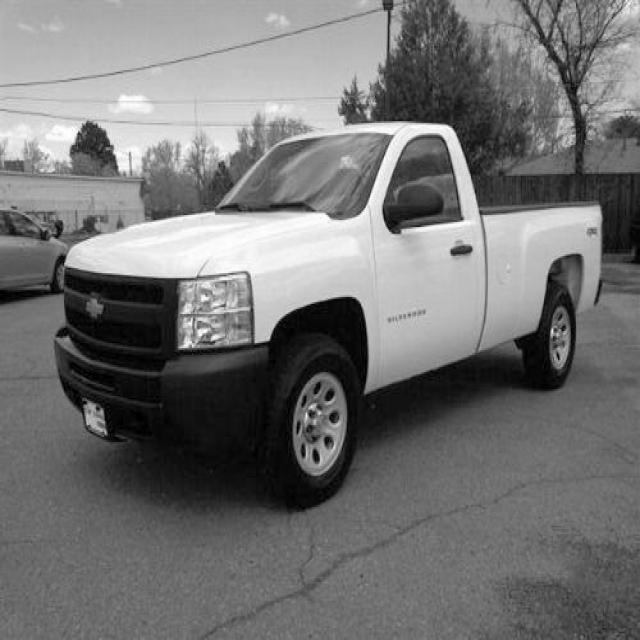car: (53, 119, 603, 510), (0, 207, 68, 300)
